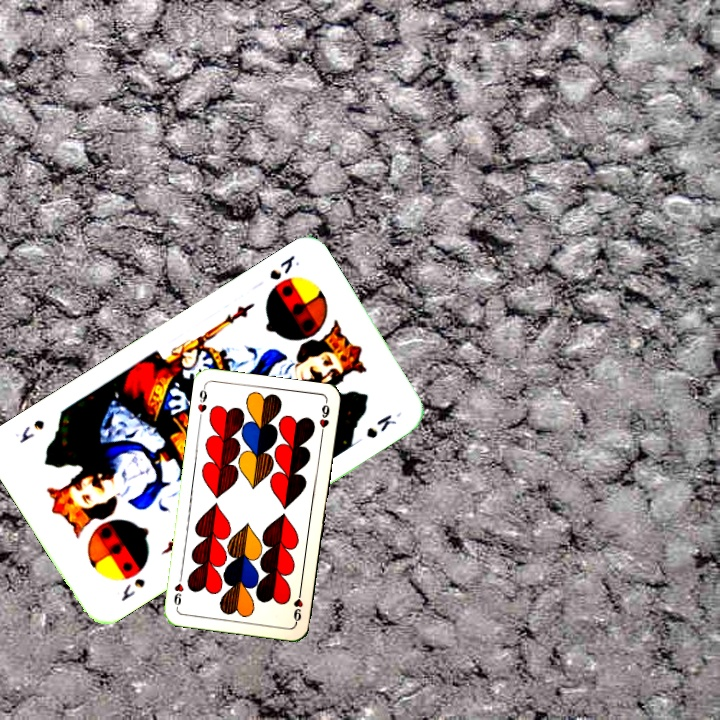H9: (289, 585, 306, 625), (194, 382, 210, 423)
SK: (265, 250, 302, 283), (117, 574, 148, 604)
